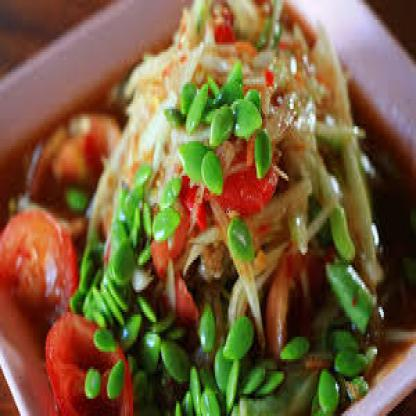Papaya Salad: (0, 10, 415, 413)
